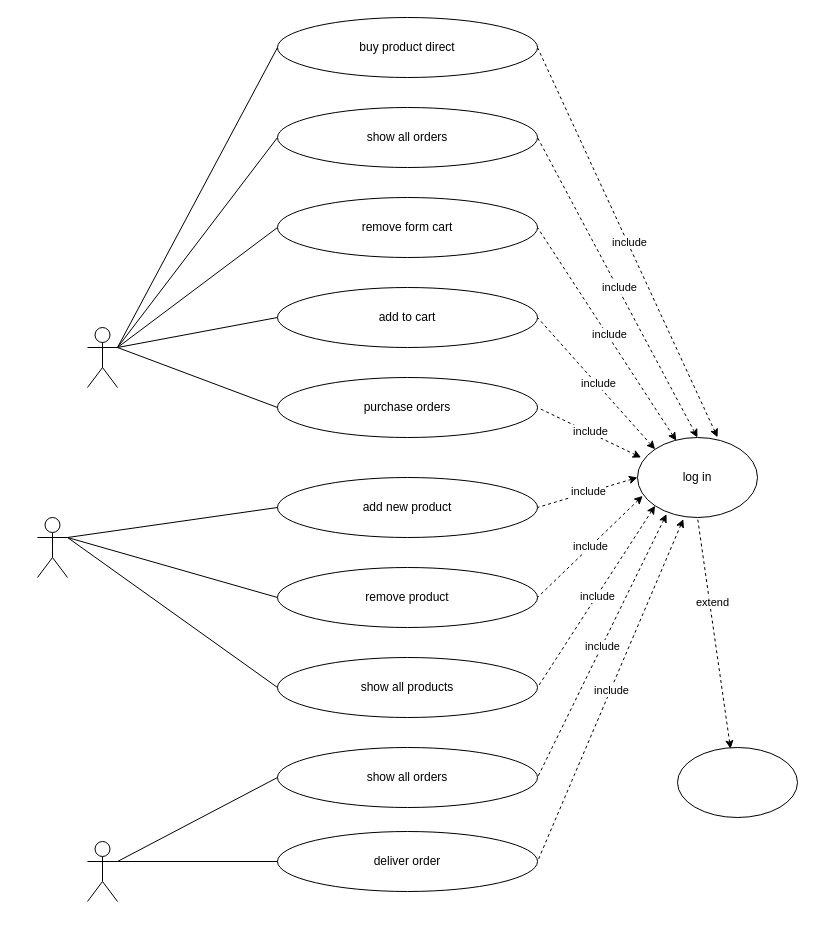
Image size: 815x940. Some labels were removed from this diagram. Here are the shapes that lost their labels. From the top down, the centre of each, then its label:
(x=102, y=357): Custmer
(x=52, y=547): Administrator
(x=737, y=782): registration
(x=102, y=871): Delivery man
